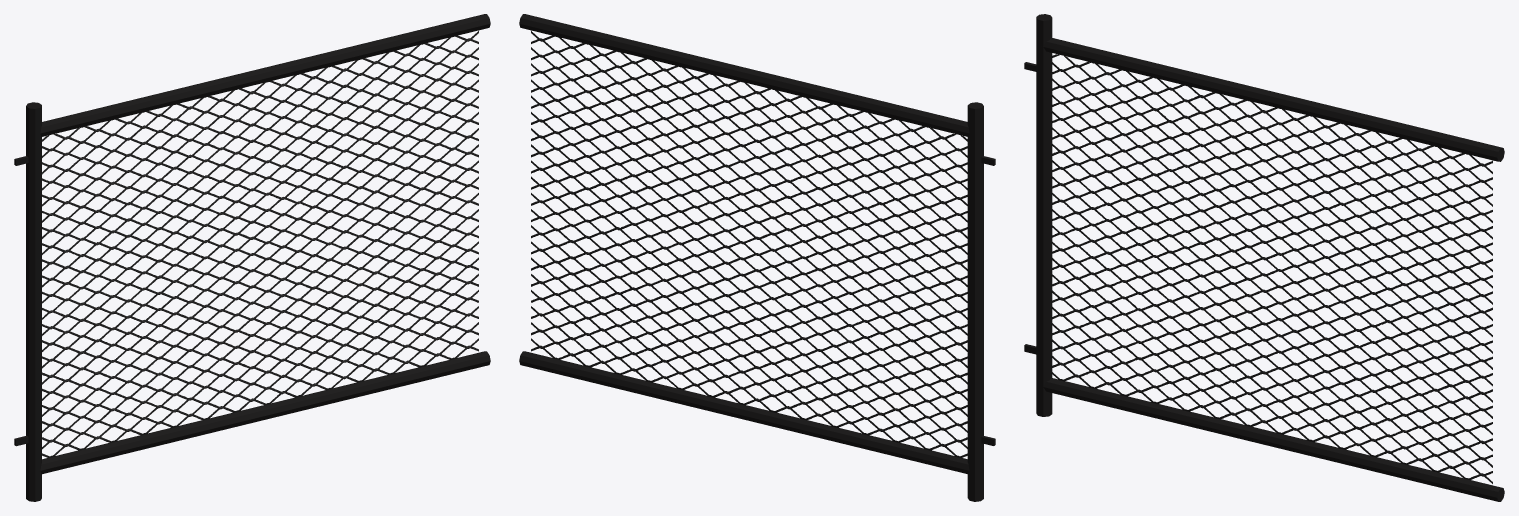
The model's file is BasketBall_Fence001.fbx.
The picture shows the model from 3 angles, left to right: view 1: azimuth 30°, elevation 25°; view 2: azimuth 150°, elevation 25°; view 3: azimuth 330°, elevation 25°; orthographic projection.
Visible parts, largest first — view 1: Fence; view 2: Fence; view 3: Fence.
Boxes of the visible parts, bbox=[...] form: Fence: bbox=[14, 14, 490, 501]; Fence: bbox=[519, 14, 995, 501]; Fence: bbox=[1024, 14, 1504, 501].
Size of the model in its own units: 175 by 4.84 by 140.
